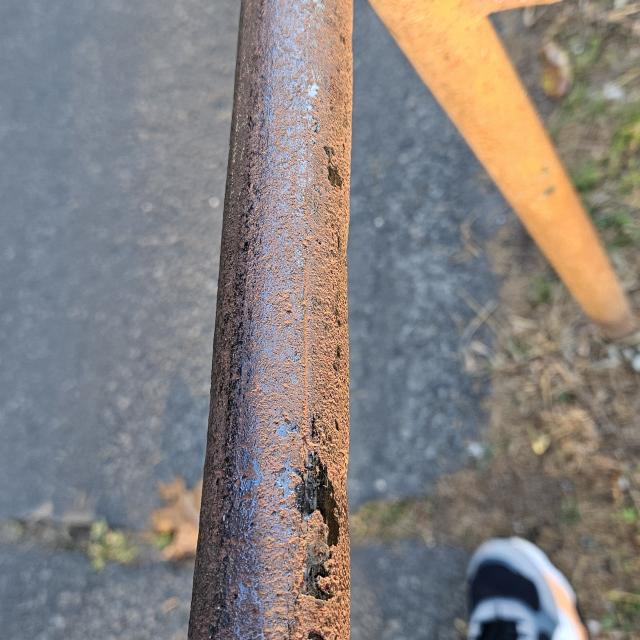Uniform Corrosion: (187, 1, 354, 640)
